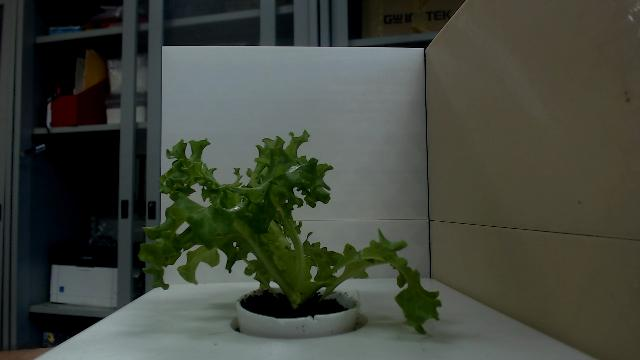Harvest Stage: (138, 129, 444, 337)
